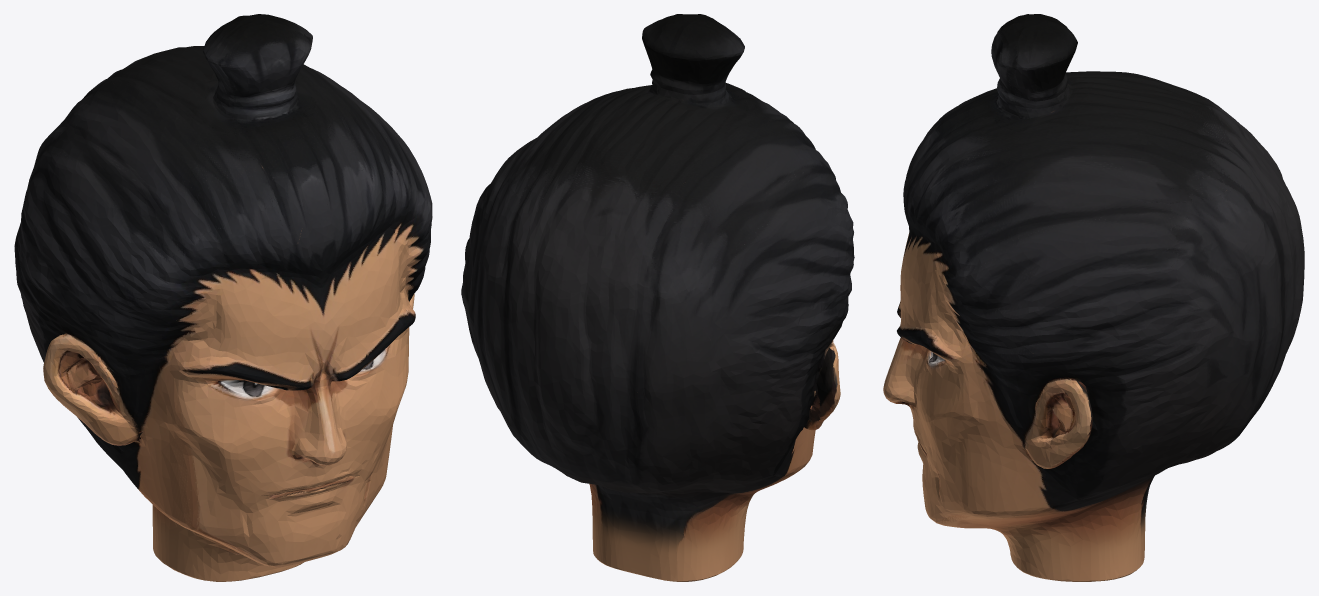
File: side_mirumotosentry_repaired_atlas.glb
3 views of the same model, side by side, from view 1: azimuth 30°, elevation 25°; view 2: azimuth 150°, elevation 25°; view 3: azimuth 270°, elevation 25° (orthographic). The views are drawn at different scales.
Parts seen in each view (by area): view 1: temp_mesh.ply; view 2: temp_mesh.ply; view 3: temp_mesh.ply.
Boxes of the visible parts, x1=… form: temp_mesh.ply: x1=14, y1=14, x2=432, y2=581; temp_mesh.ply: x1=461, y1=14, x2=854, y2=581; temp_mesh.ply: x1=883, y1=14, x2=1304, y2=581.
Size of the model in its own units: 1.39 by 1.97 by 1.42.
1 material, 1 textured.
